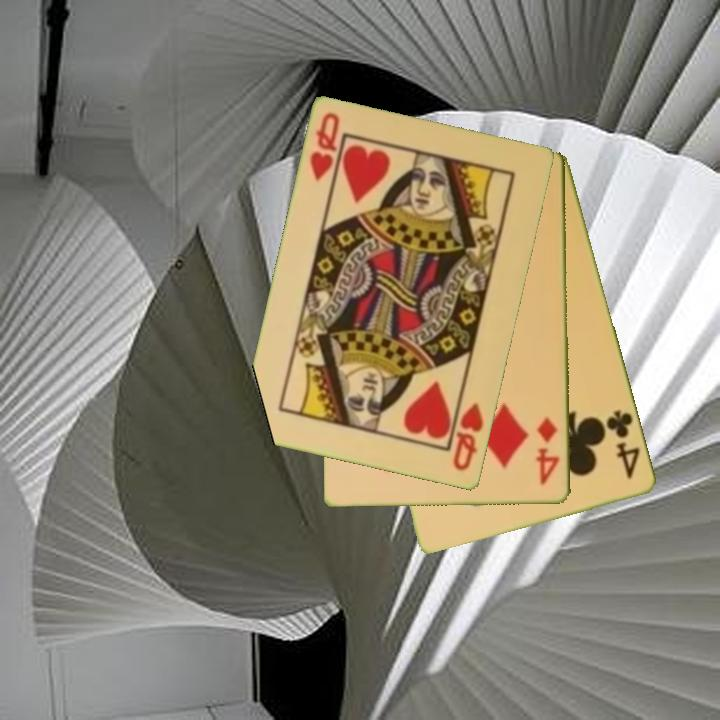4c: (603, 407, 644, 482)
4d: (533, 414, 563, 489)
Qh: (449, 400, 487, 474), (306, 109, 343, 184)
